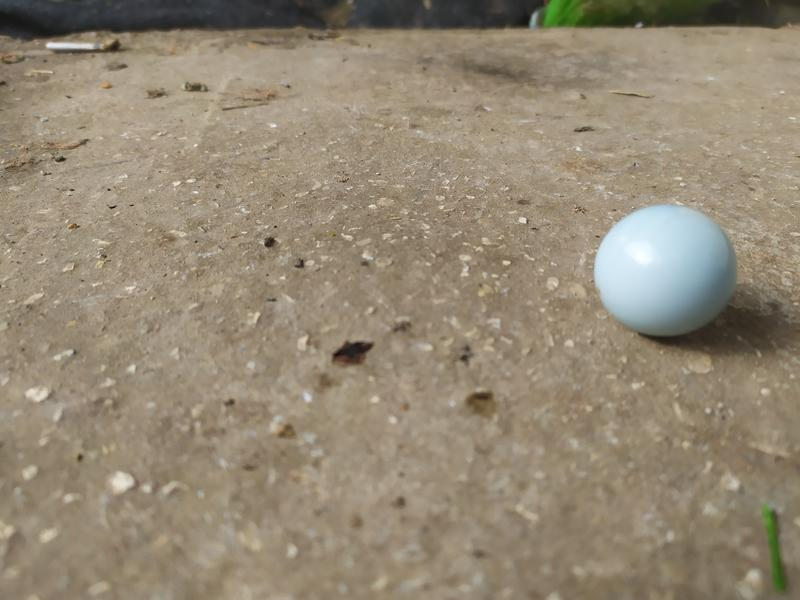Warning: (589, 200, 741, 342)
